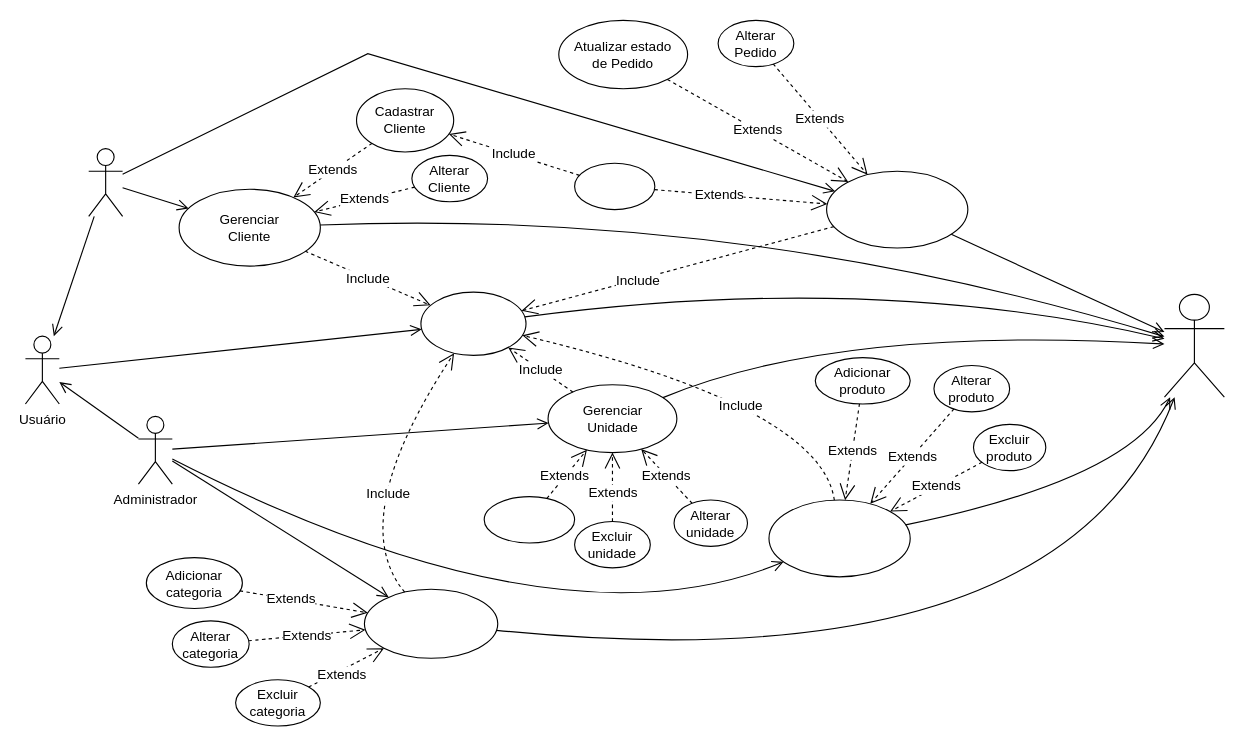
Some shapes in this 1244 by 746 pixel diagram are drawn without their labels. The shapes that lost their labels are listed below. From the top down, each one's centre as x and y in pixels, then its label:
pixel 105 181: Atendente
pixel 614 186: Cadastrar Pedido
pixel 896 209: Gerenciar Pedido
pixel 473 323: Login
pixel 1193 345: SGBD
pixel 529 519: Adicionar unidade
pixel 839 538: Gerenciar Produto
pixel 430 623: Gerenciar Categoria
